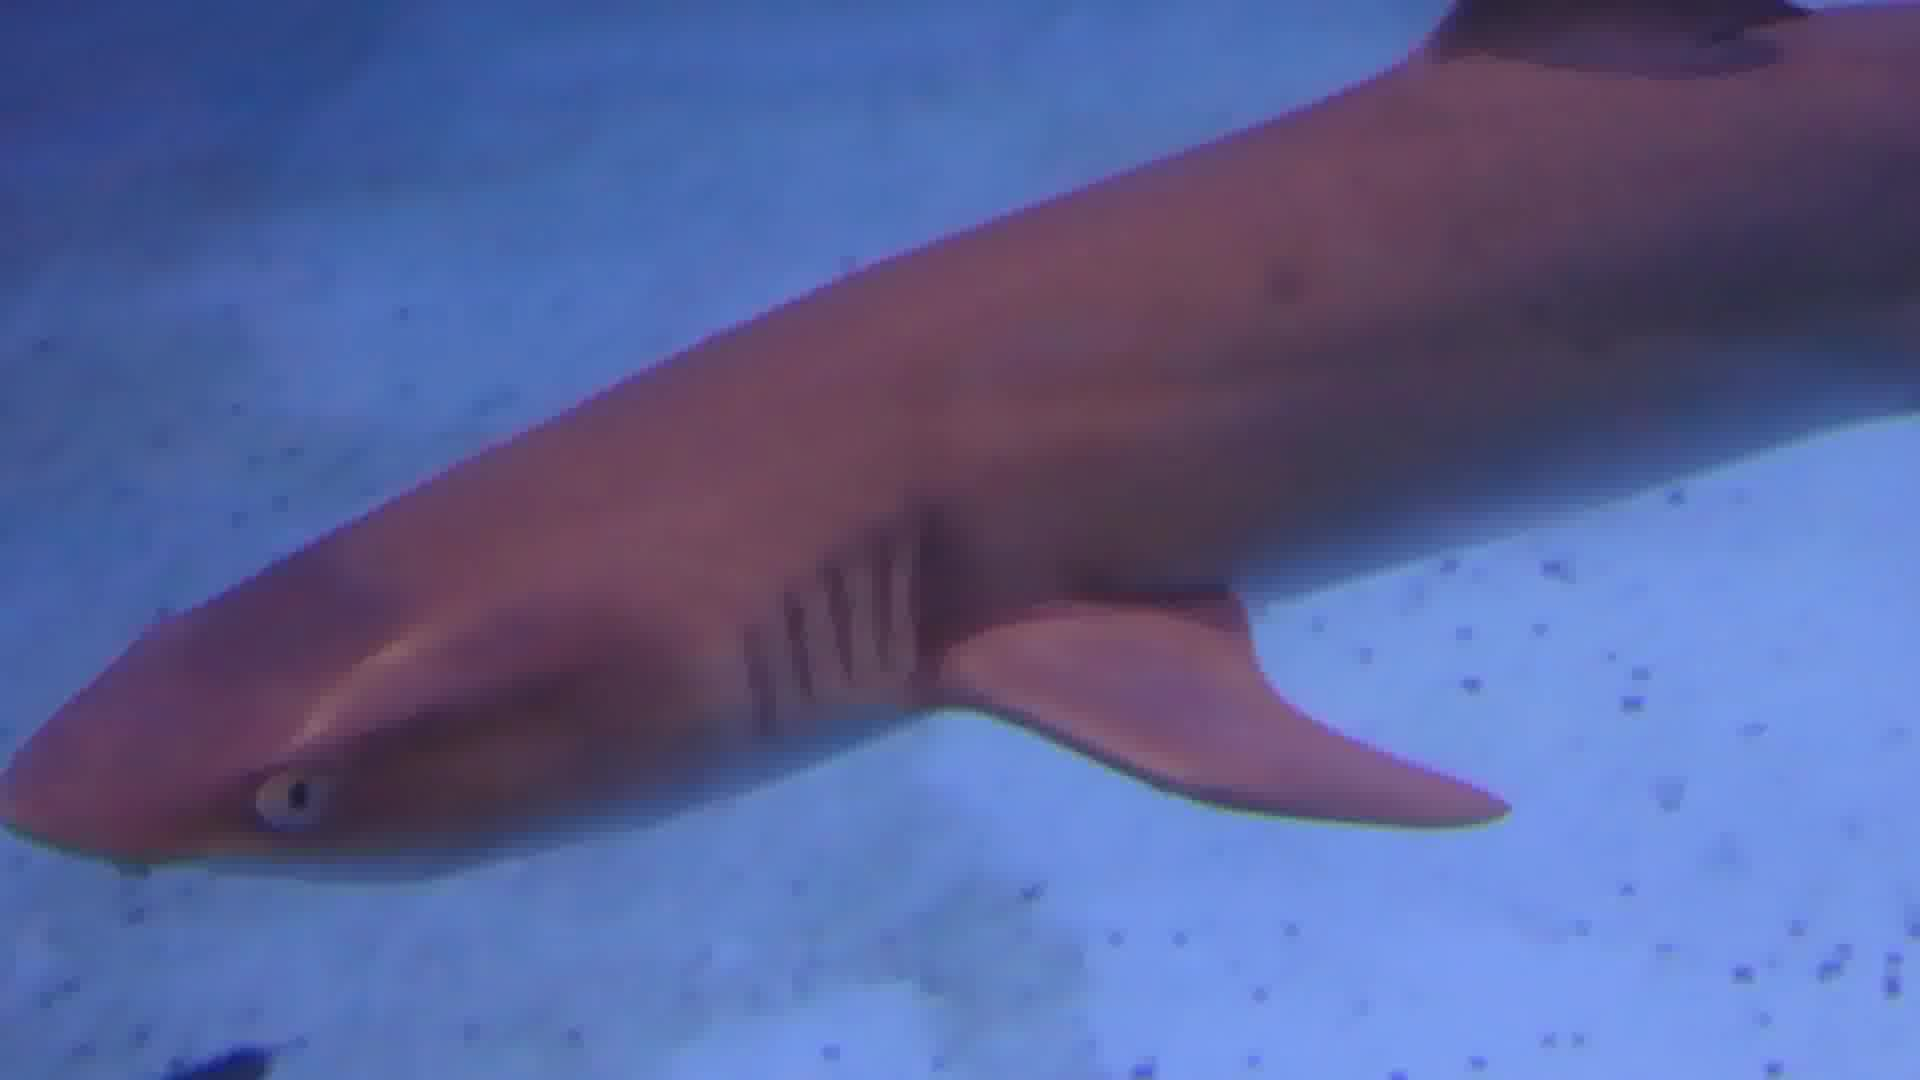Triaenodon obesus: (1, 3, 1913, 963)
